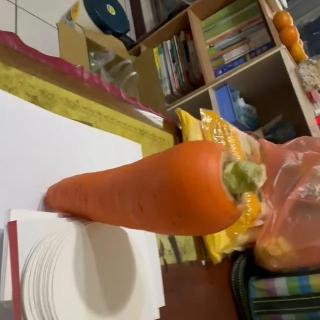carrot: (43, 140, 268, 234)
